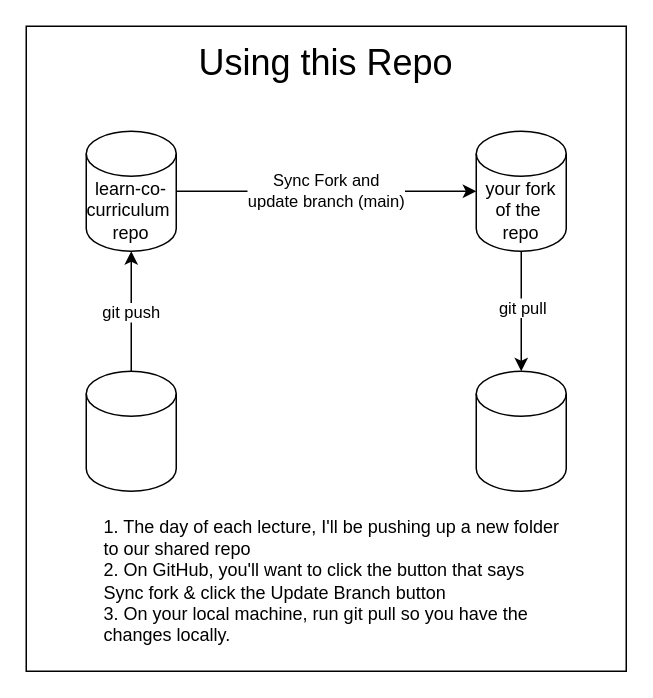
Some shapes in this 653 by 698 pixel diagram are drawn without their labels. The centre of each missing label's shape, as x and y in pixels:
my local copy of repo: the point at 130,430
your local copy of repo: the point at 520,430
